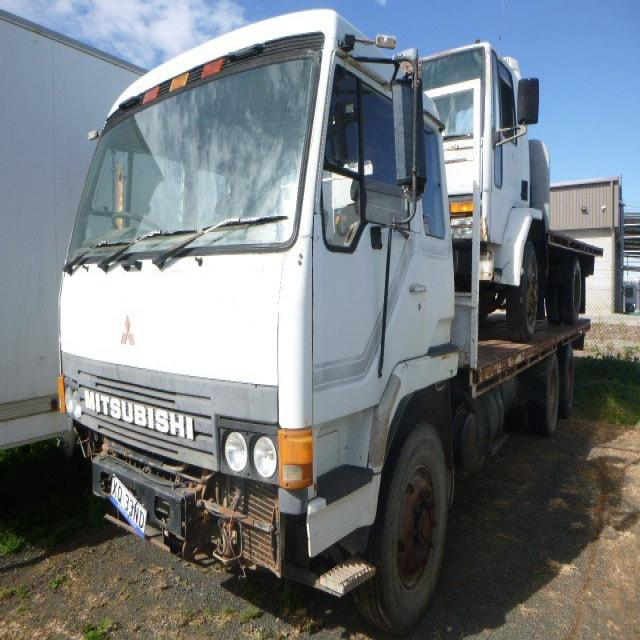truck: (56, 7, 594, 633)
